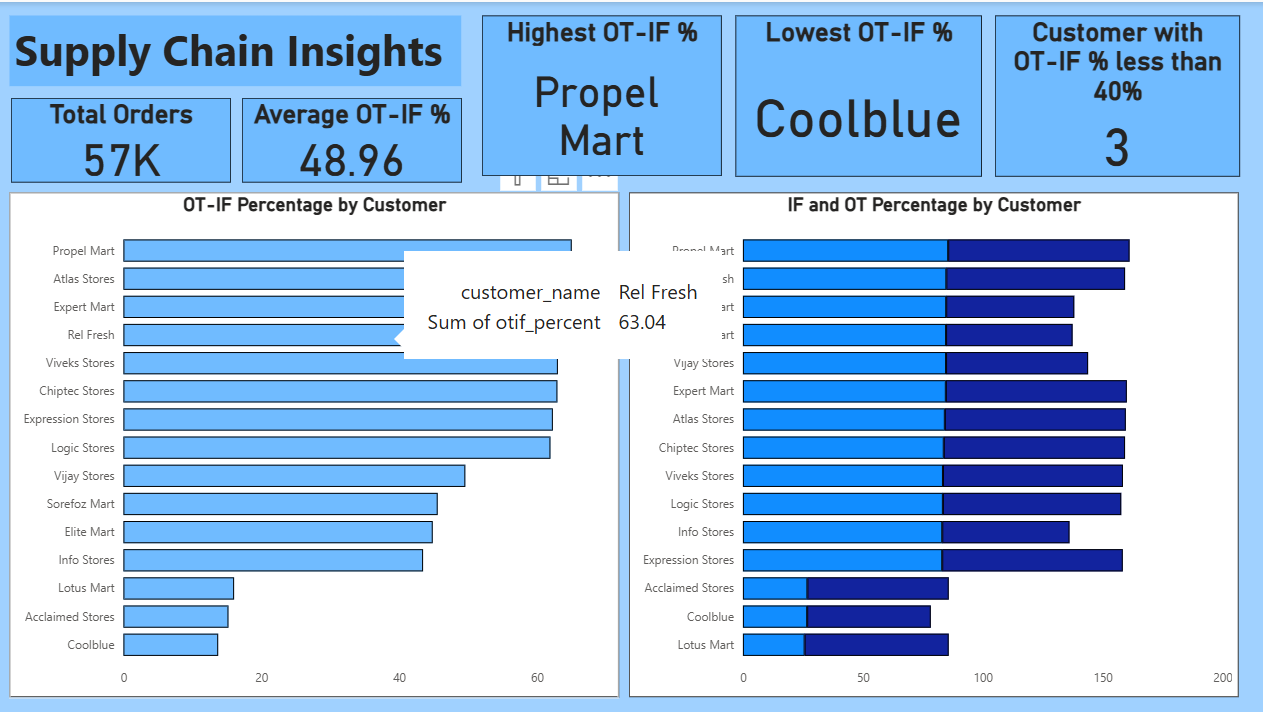

The dashboard page shown, as its layout file describes it:
{"tool":"powerbi","page":{"name":"Page 1","canvas":[1280,720],"ordinal":0},"visuals":[{"type":"clusteredBarChart","title":"OT-IF Percentage by Customer","fields":{"Category":["Query1.customer_name"],"Y":["Sum(Query1.otif_percent)"]},"box":[13.2,192.5,615,509.4],"z":0},{"type":"barChart","title":"IF and OT Percentage by Customer","fields":{"Category":["Query1.customer_name"],"Y":["Sum(Query1.in_full_percent)","Sum(Query1.on_time_percent)"]},"box":[639.6,192.5,615.1,509.4],"z":1000},{"type":"card","title":"Total Orders","fields":{"Values":["Sum(Query1.total_orders)"]},"box":[15,96.7,221.7,85],"z":2000},{"type":"card","title":"Average OT-IF %","fields":{"Values":["Avg(Query1.otif_percent)"]},"box":[248.3,96.7,221.7,85],"z":3000},{"type":"card","title":"Lowest OT-IF %","fields":{"Values":["Min(Query1.customer_name)"]},"box":[747.1,14.3,248.6,162.9],"z":4000},{"type":"card","title":"Customer with OT-IF % less than 40%","fields":{"Values":["Count(Query1.customer_name)"]},"box":[1008.6,14.3,247.1,162.9],"z":5000},{"type":"textbox","box":[14.3,14.3,455.7,71.4],"z":6000},{"type":"card","title":"Highest OT-IF %","fields":{"Values":["Min(Query1.customer_name)"]},"box":[490,14,242,162],"z":7000}]}

Visuals, with their boxes in screenshot pixels (x1, y1, x2, y2), scaled from the page's 1280x720 canvas onto the 1263x712 screenshot:
"OT-IF Percentage by Customer" clusteredBarChart: locate(13, 190, 620, 694)
"IF and OT Percentage by Customer" barChart: locate(631, 190, 1238, 694)
"Total Orders" card: locate(15, 96, 234, 180)
"Average OT-IF %" card: locate(245, 96, 464, 180)
"Lowest OT-IF %" card: locate(737, 14, 982, 175)
"Customer with OT-IF % less than 40%" card: locate(995, 14, 1239, 175)
textbox: locate(14, 14, 464, 85)
"Highest OT-IF %" card: locate(483, 14, 722, 174)
